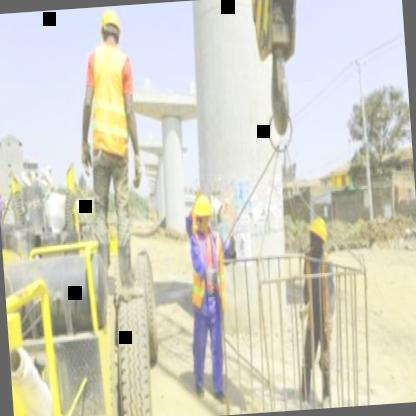helmet: (190, 191, 216, 240), (304, 211, 330, 258), (96, 7, 122, 47)
